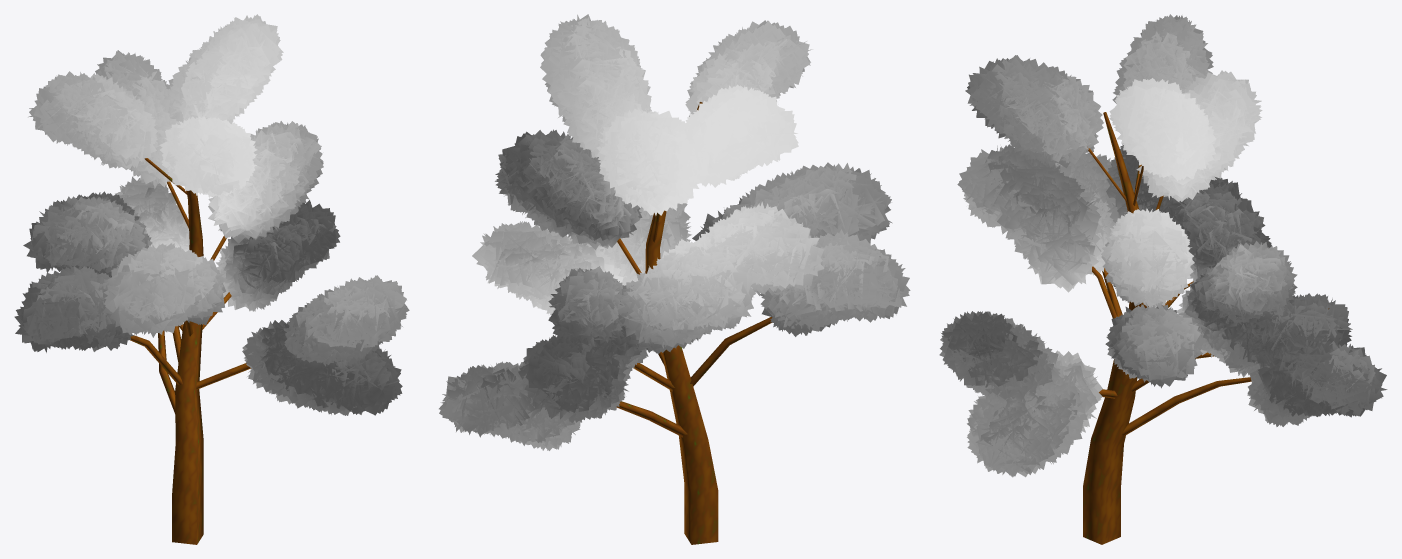
File: Tree_03.fbx
The picture shows the model from 3 angles, left to right: view 1: azimuth 30°, elevation 25°; view 2: azimuth 150°, elevation 25°; view 3: azimuth 270°, elevation 25°; orthographic projection. The views are drawn at different scales.
Parts seen in each view (by area): view 1: Tree_03_Leaves, Tree_03_Bark; view 2: Tree_03_Leaves, Tree_03_Bark; view 3: Tree_03_Leaves, Tree_03_Bark.
Part boxes in pixels (x1=…): Tree_03_Leaves: x1=14, y1=14, x2=409, y2=415; Tree_03_Bark: x1=130, y1=158, x2=250, y2=544; Tree_03_Leaves: x1=439, y1=14, x2=910, y2=450; Tree_03_Bark: x1=616, y1=102, x2=772, y2=544; Tree_03_Leaves: x1=939, y1=14, x2=1387, y2=477; Tree_03_Bark: x1=1083, y1=112, x2=1329, y2=544.
Bounding box in the file's own units: 791 × 1014 × 826.
